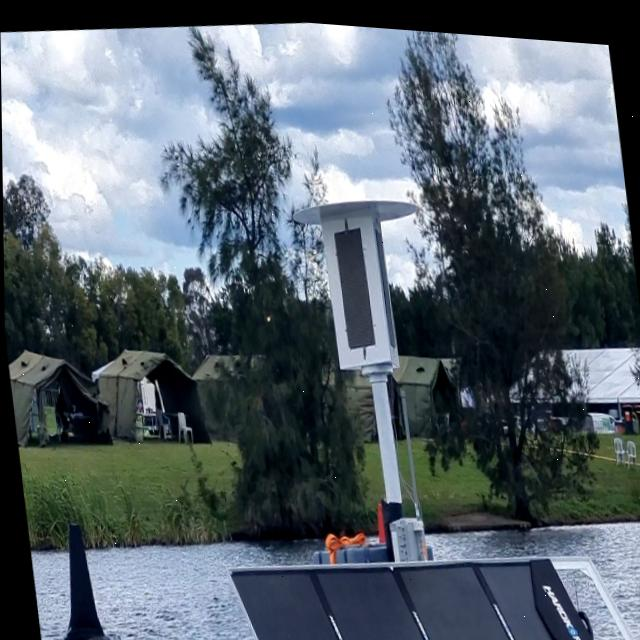led: (325, 211, 383, 357)
